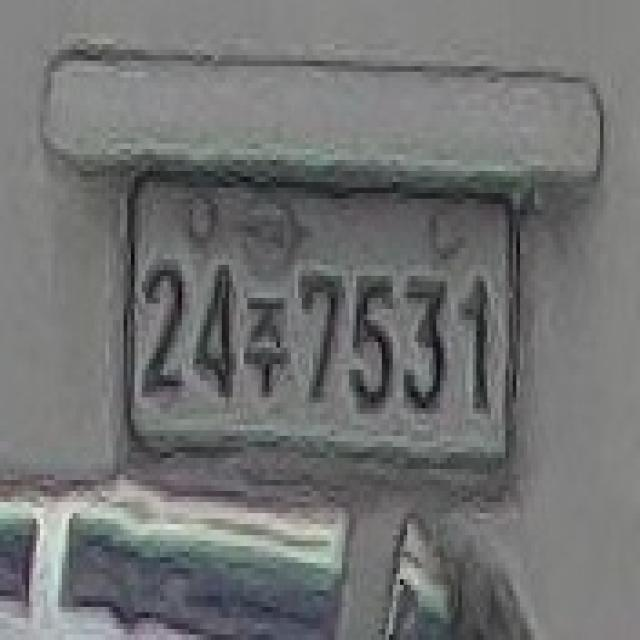plat: (124, 170, 518, 466)
